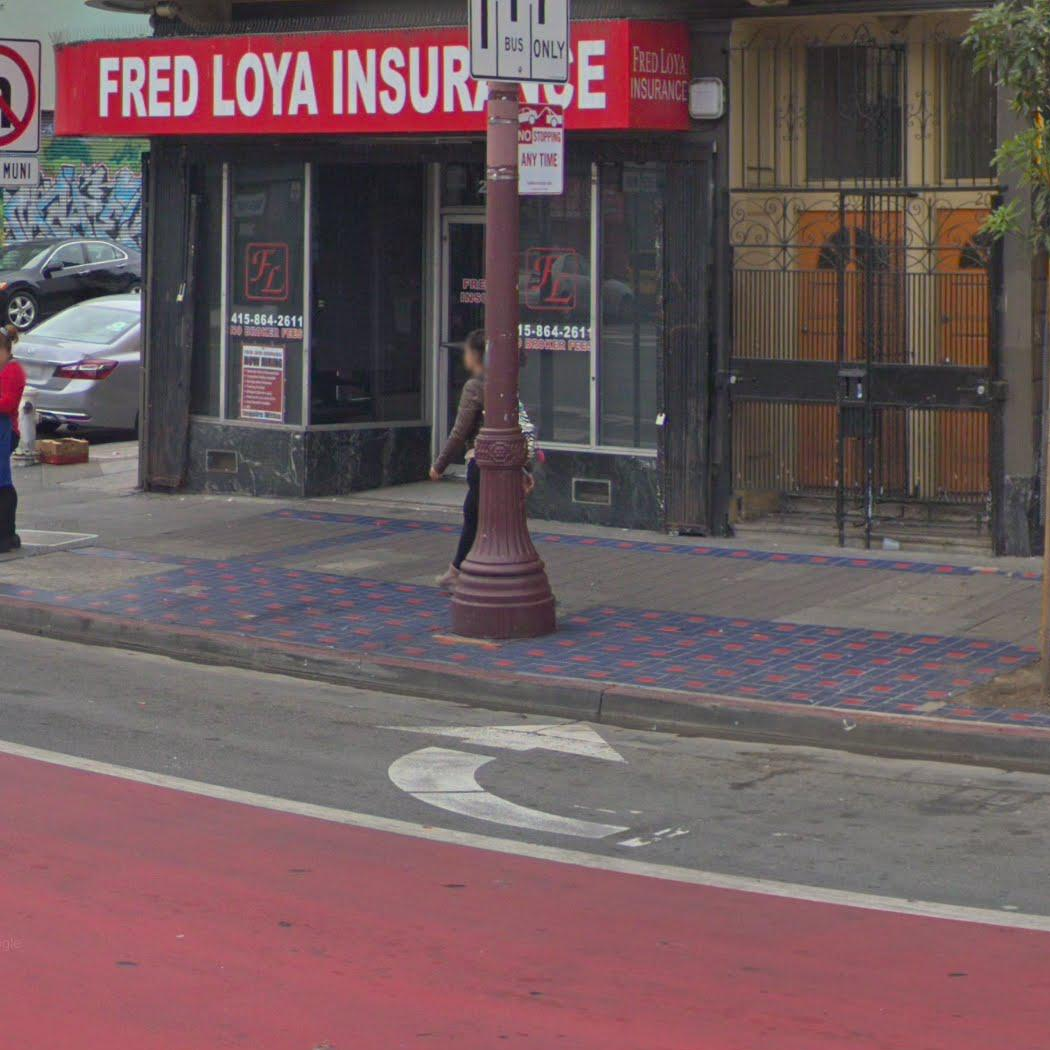No Parking Anytime: (516, 103, 564, 198)
